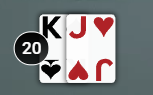j: (65, 13, 91, 42)
k: (39, 14, 65, 42)
